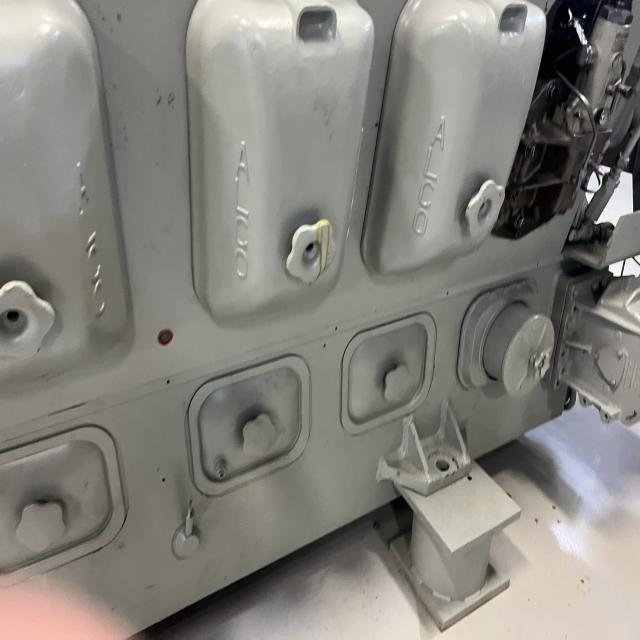Oil Leak: (299, 218, 338, 287)
